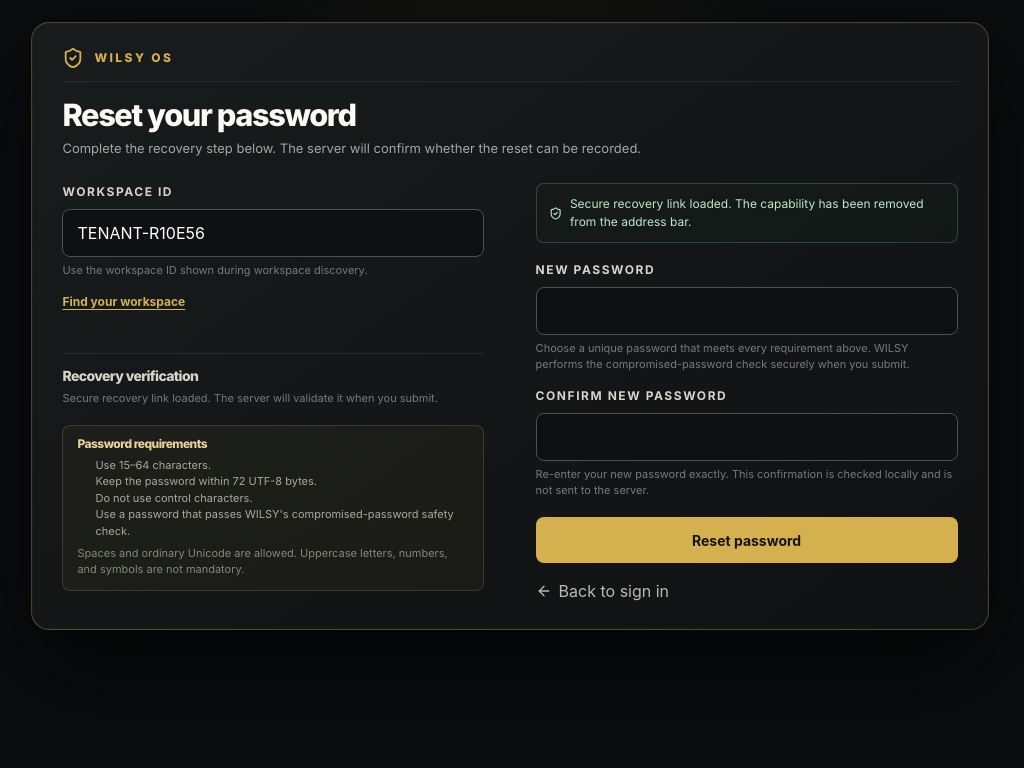
it: R10E56 password recovery client flow certificate › blocks a too-short password locally without spending recovery transport
Type "short password" into the password field labelled "New password". click: [747, 312]
box: x1=536 y1=288 x2=958 y2=336
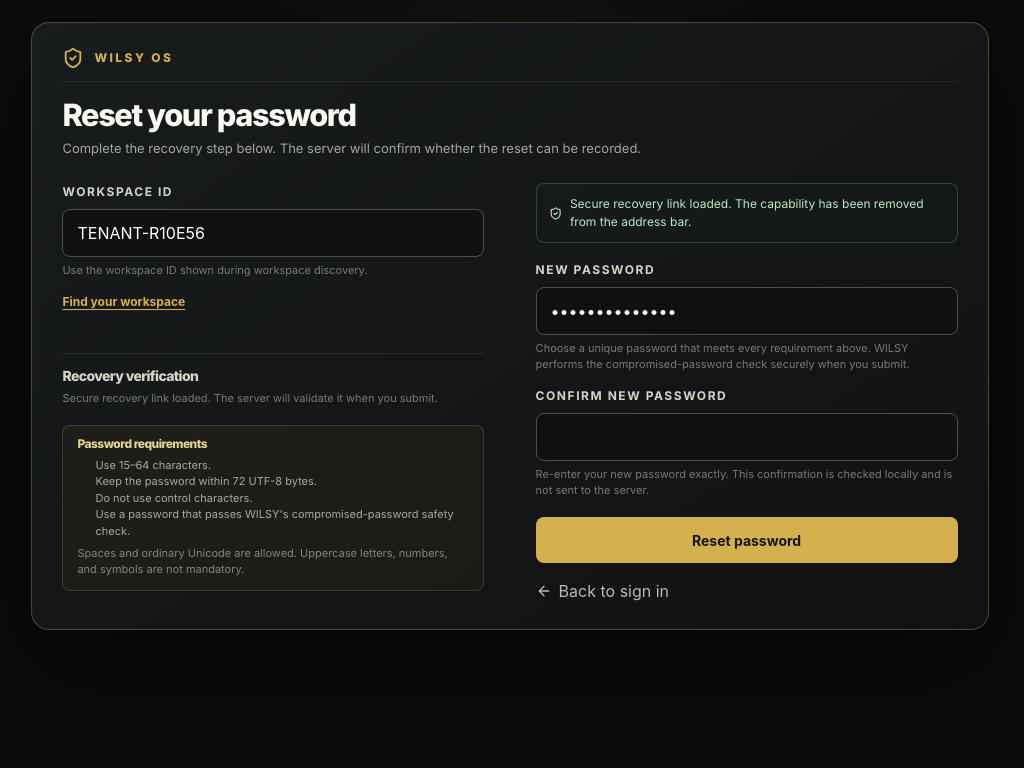
Type "short password" into the password field labelled "Confirm new password". click: [747, 437]
box: x1=536 y1=413 x2=958 y2=461
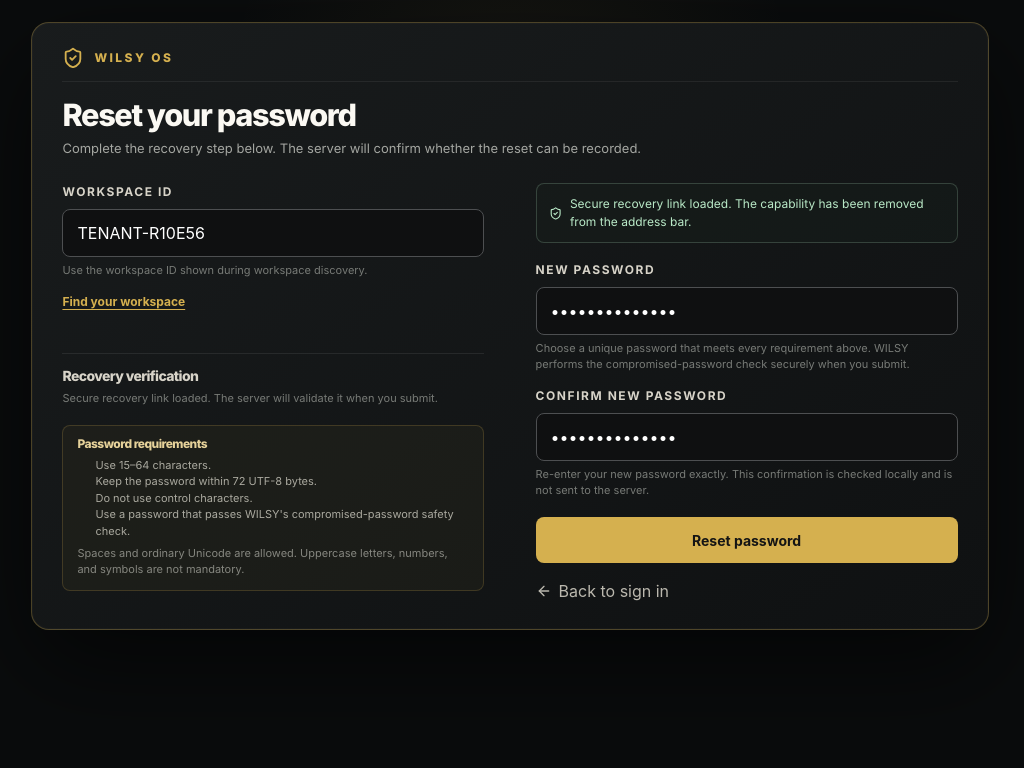
Click the button "Reset password". click: [747, 540]
box: x1=536 y1=517 x2=958 y2=563
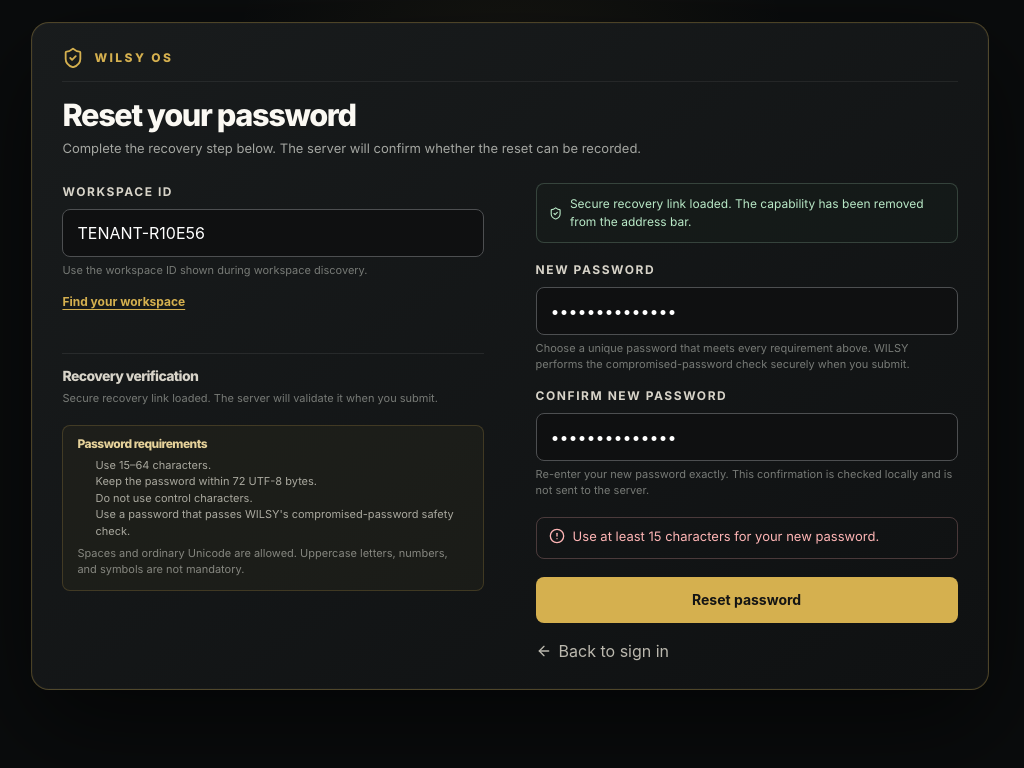
Expected: the message "Use at least 15 characters for your new password." is shown, x1=536 y1=517 x2=958 y2=559
